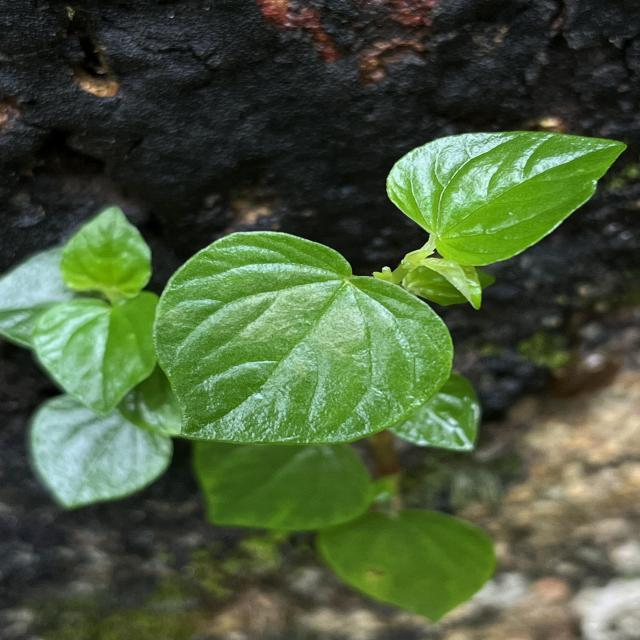Peperomia pellucida: (151, 230, 456, 448), (384, 127, 630, 270)
